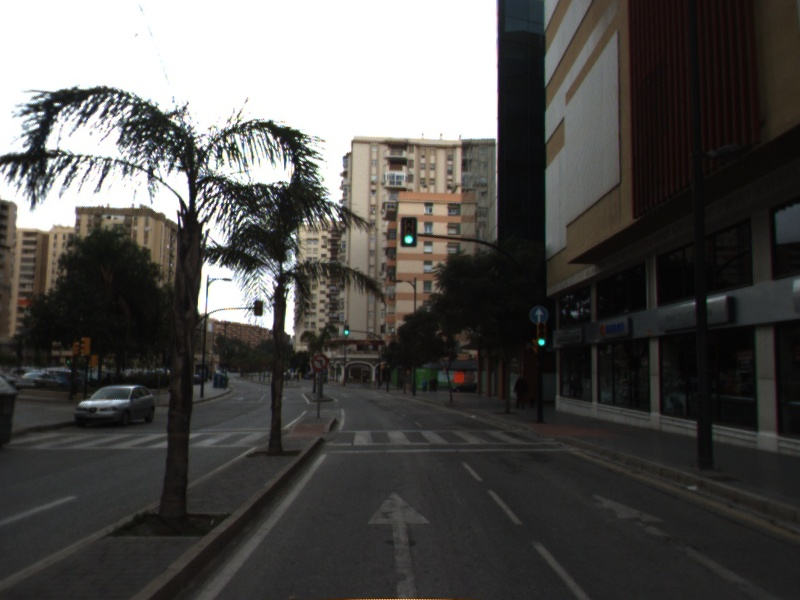STRAIGHT: (586, 488, 784, 600), (363, 488, 436, 600)
